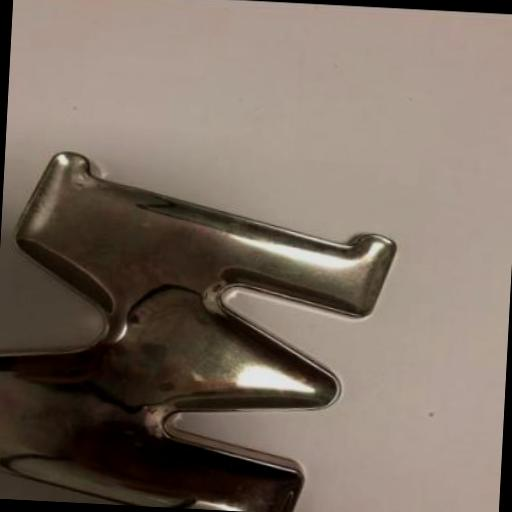metal: (0, 147, 403, 512)
